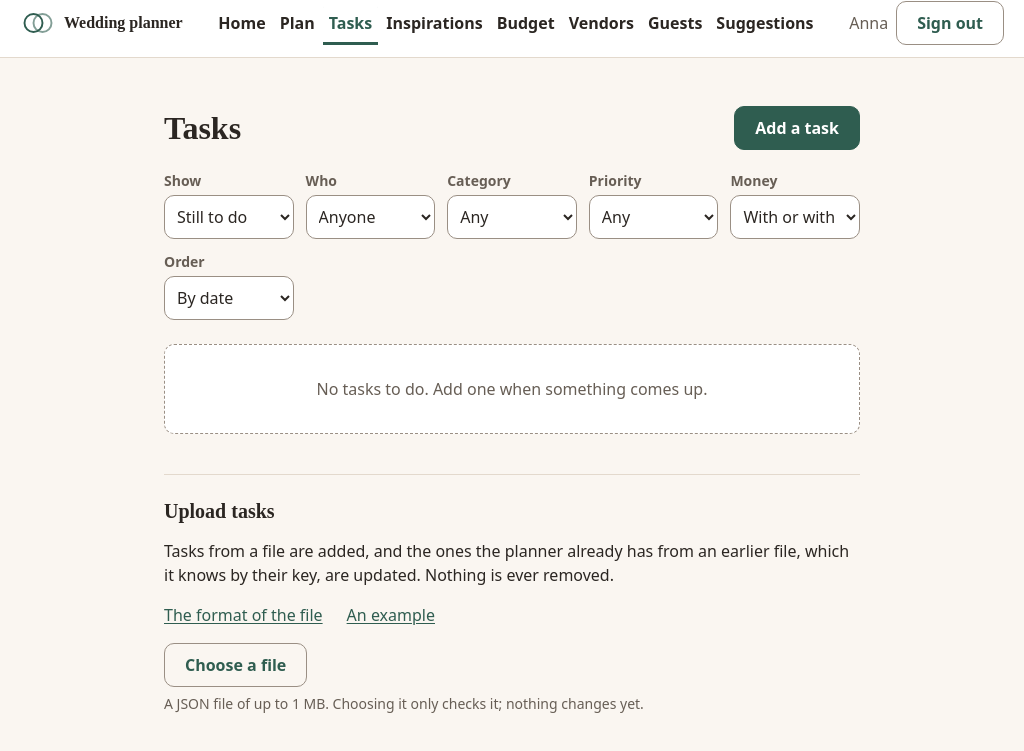
Test case: adding and changing an entry › adds a task and returns to the tasks
Click the link "Add a task".
click(797, 128)  # box [734, 106, 860, 150]
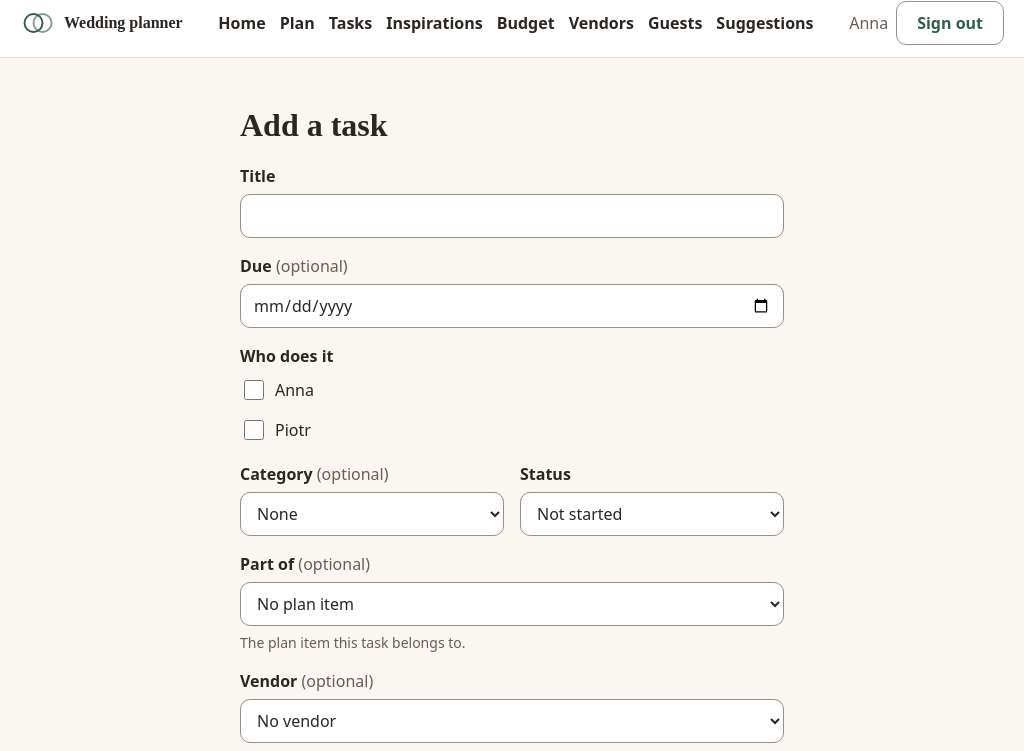
Expected: the heading "Add a task" is shown, [240, 107, 388, 143]
Type "Call the florist" into the field labelled "Title".
click(512, 216); type("Call the florist")  # box [240, 194, 784, 238]
Type "2027-03-01" into the date field labelled "Due (optional)".
click(512, 306); type("2027-03-01")  # box [240, 284, 784, 328]
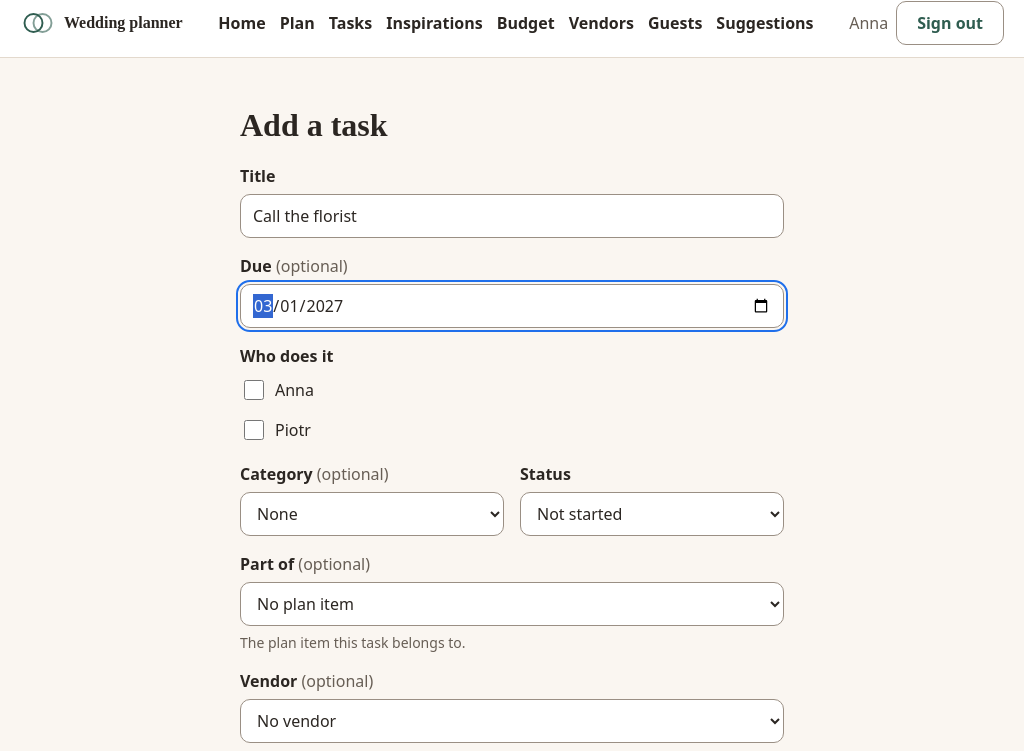
Click the checkbox labelled "Anna".
click(254, 390)  # box [244, 380, 264, 400]
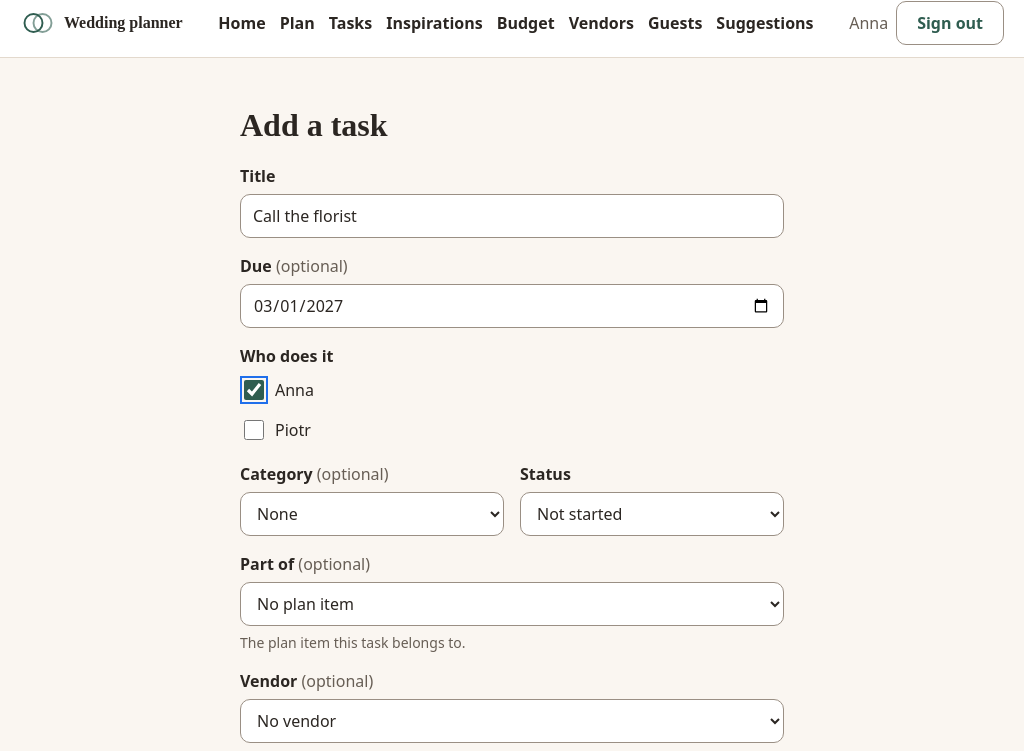
Select "Flowers and decor" in the dropdown labelled "Category (optional)" at (372,514), box [240, 492, 504, 536]
(page scrolled)
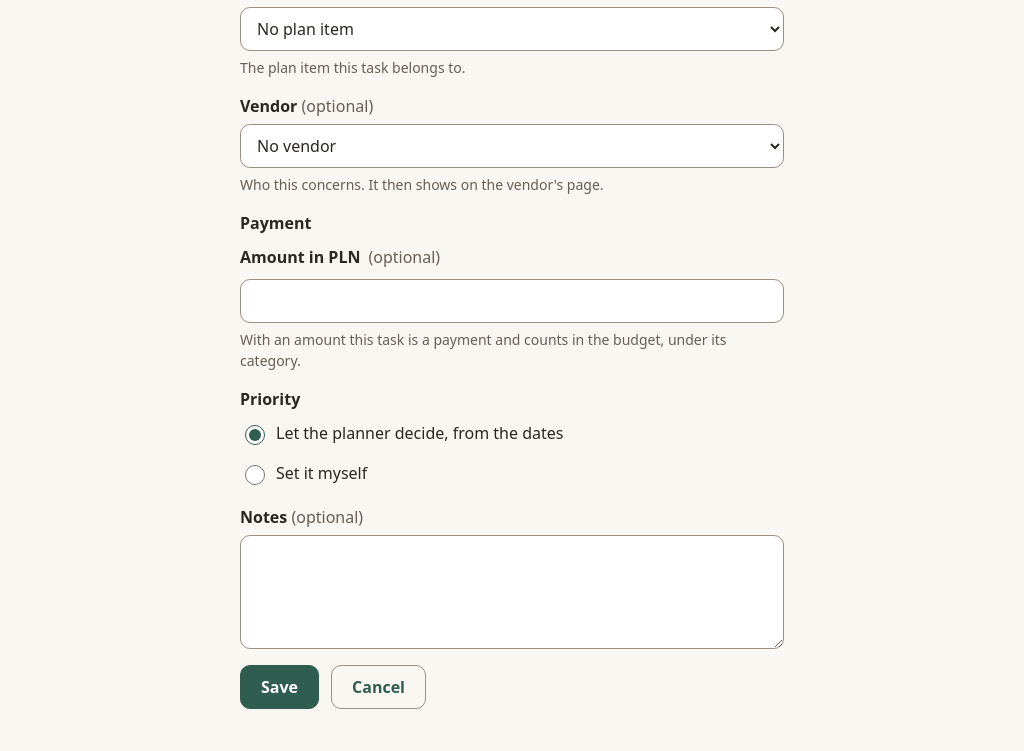
Type "Ask about peonies." into the text box labelled "Notes (optional)".
click(512, 592); type("Ask about peonies.")  # box [240, 535, 784, 649]
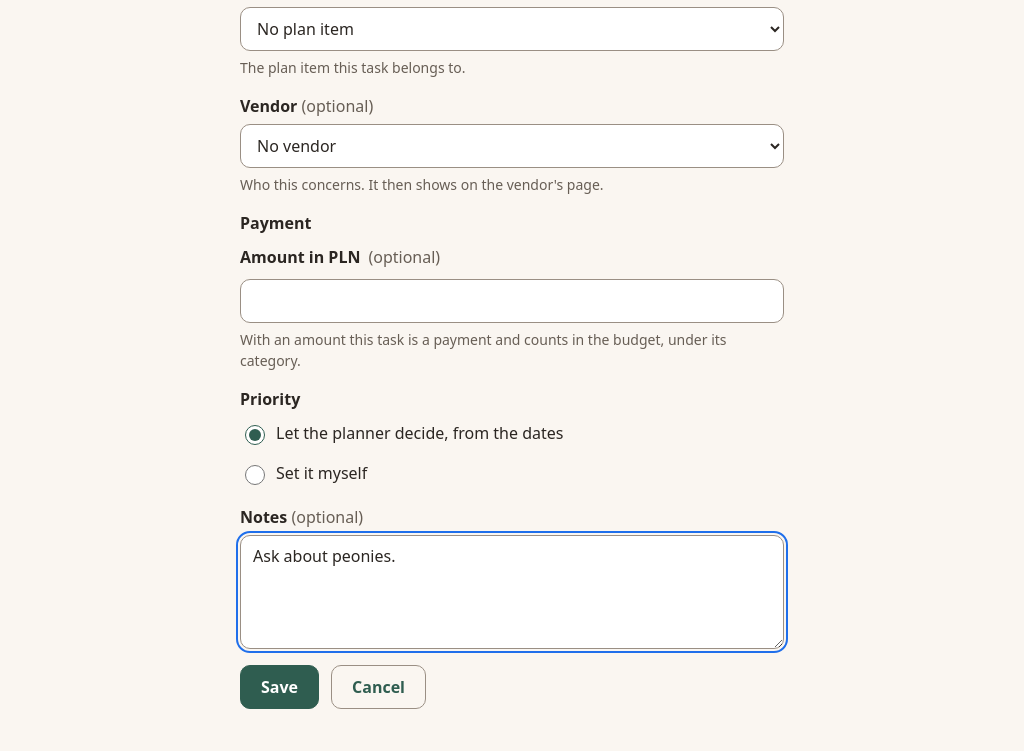
Click the button "Save".
click(280, 687)  # box [240, 665, 319, 709]
(page scrolled)
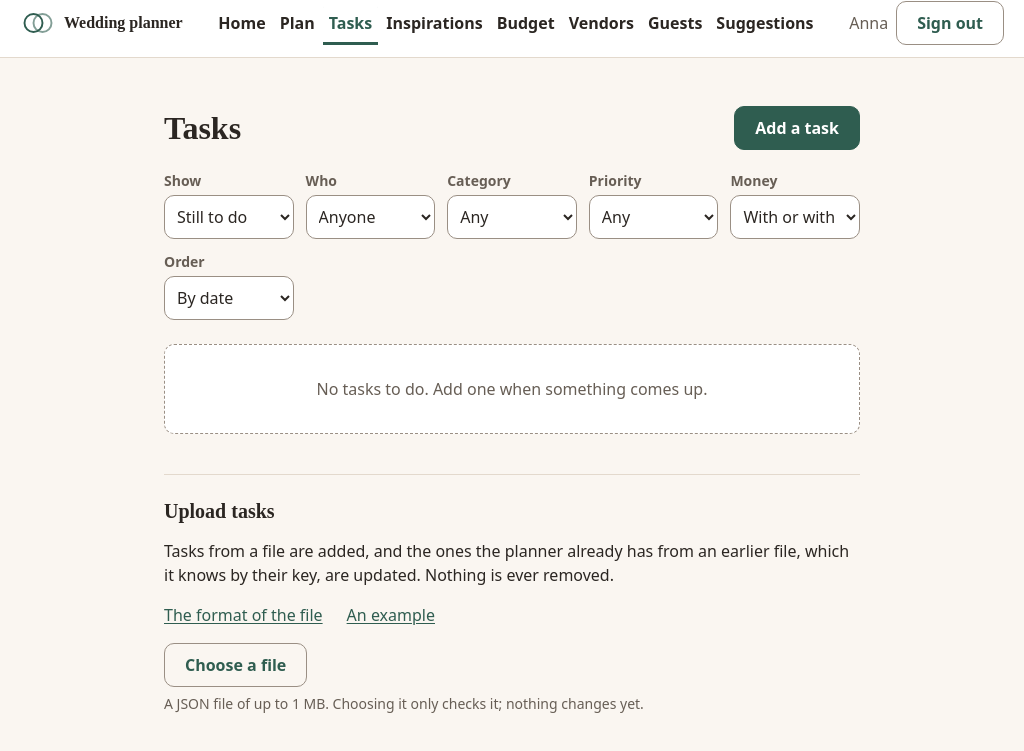
Expected: the heading "Tasks" is shown, [164, 109, 241, 147]
